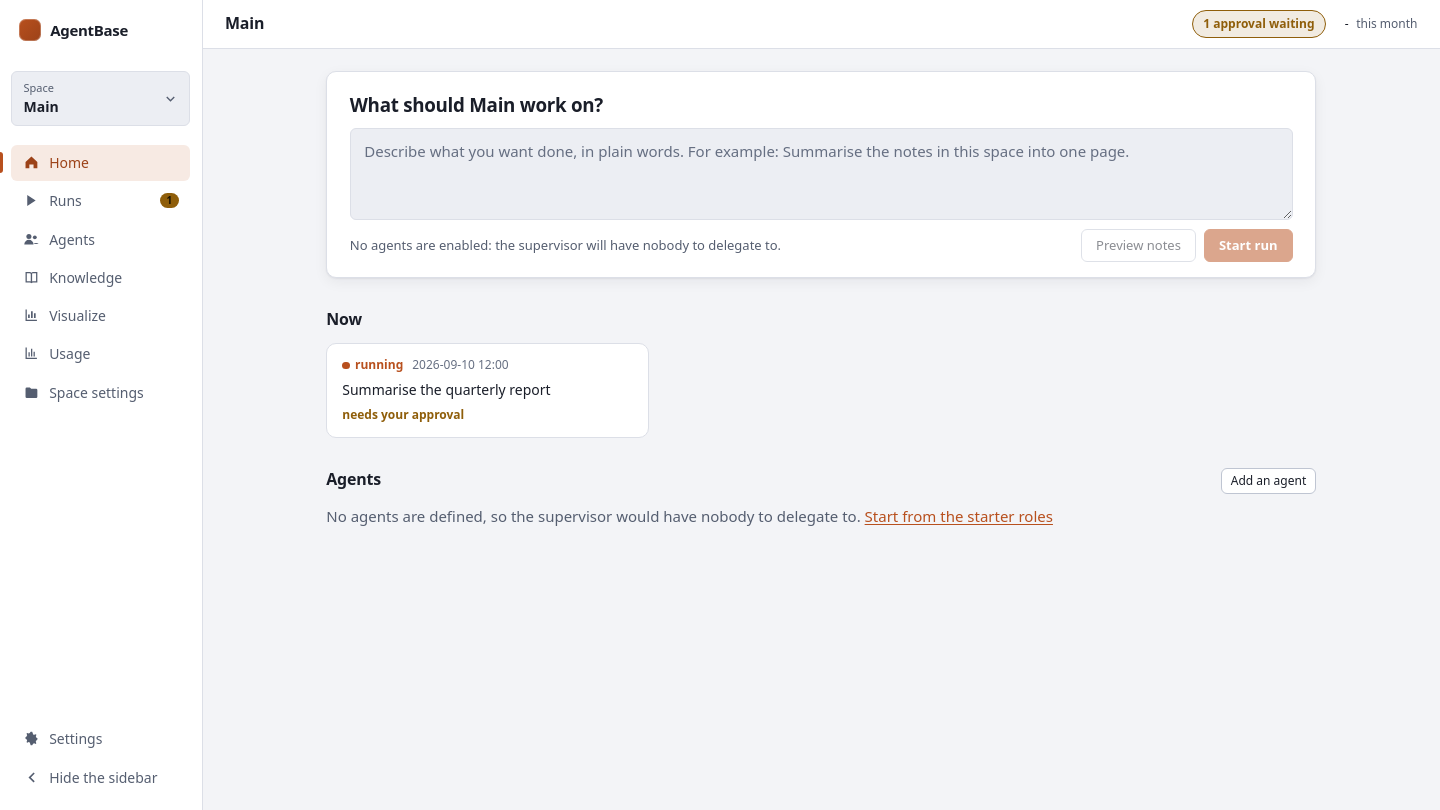
Test: an approval waiting elsewhere › is announced in the header, and clicking it opens that run
This screenshot has width=1440, height=810.
Click the button "Agents" at (101, 239), box top-left (11, 221), bottom-right (190, 257)
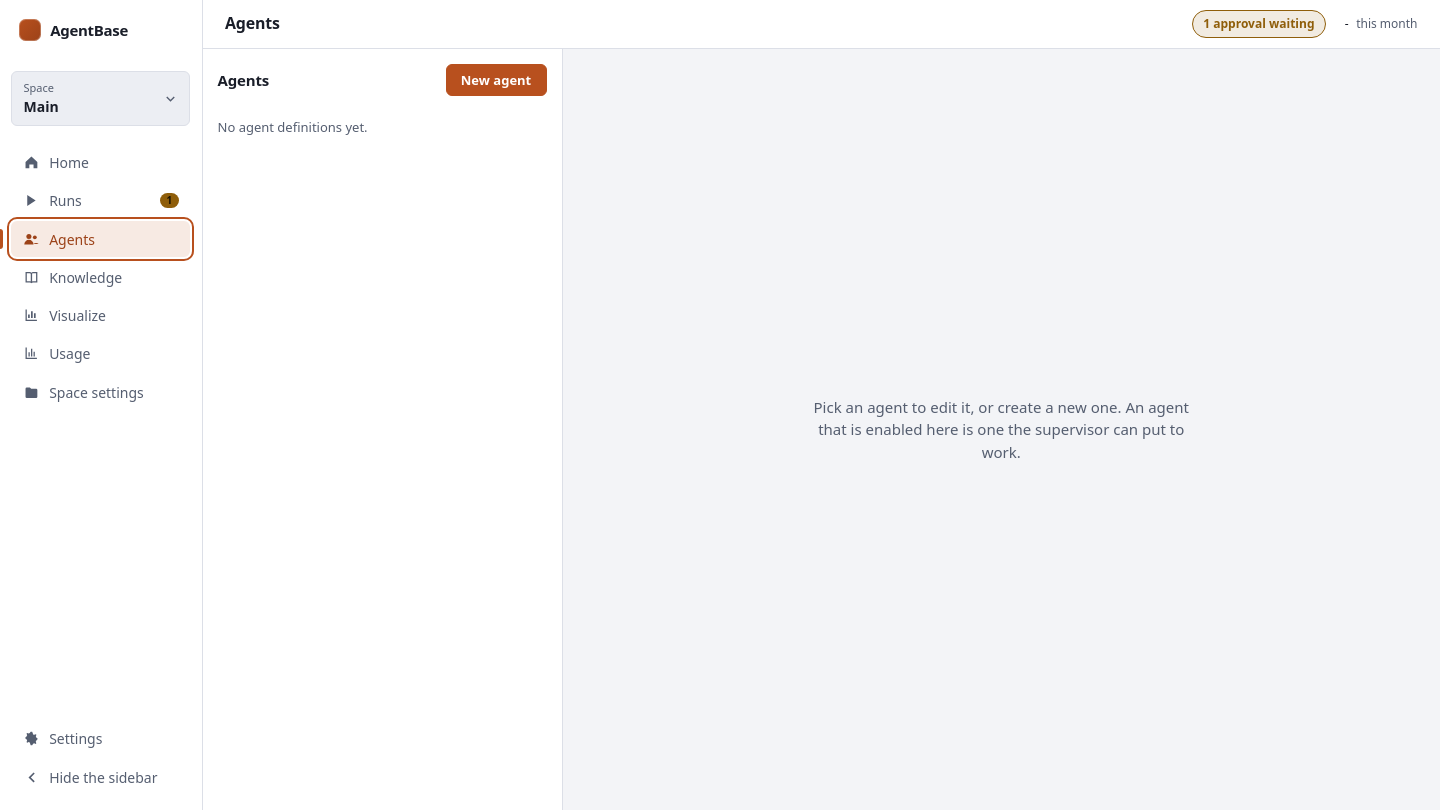
Click the button "1 approval waiting" at (1259, 24), box top-left (1192, 10), bottom-right (1326, 38)
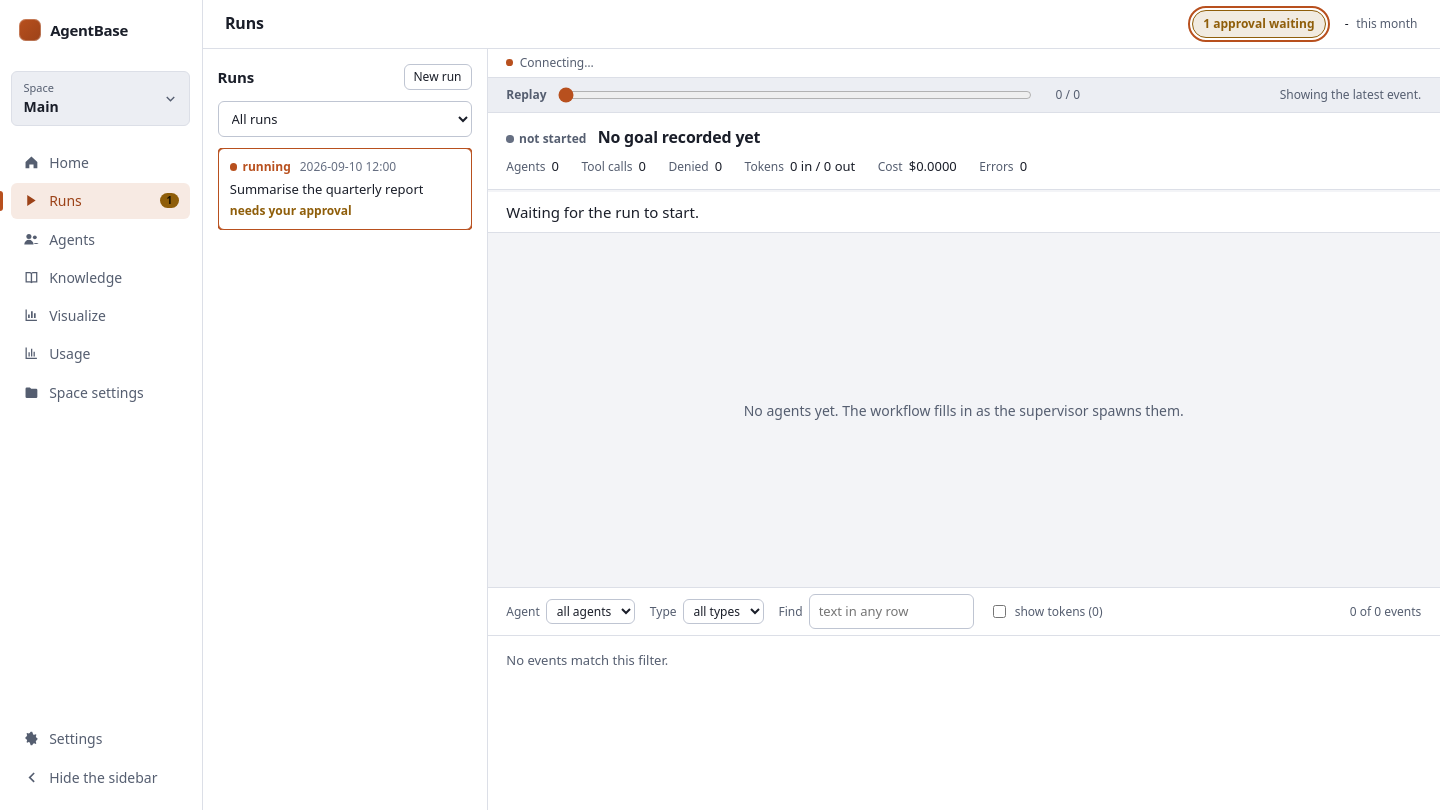
Expected: the element with test id "run-panel" is shown, top-left (488, 78), bottom-right (1439, 809)
